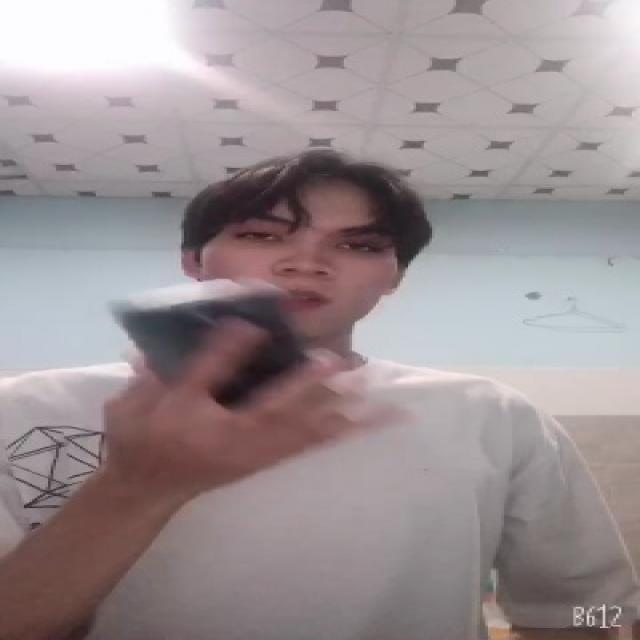Phone: (104, 278, 306, 407)
